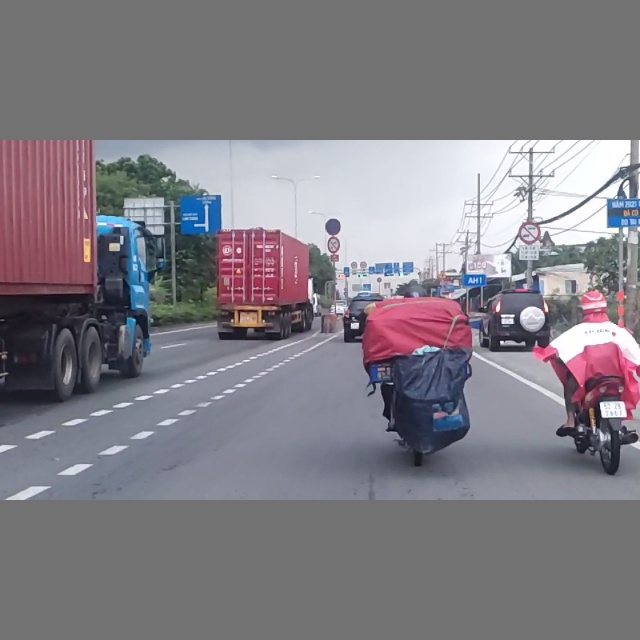P.107: (519, 222, 541, 245)
P.111: (327, 237, 341, 253)
P.130: (325, 218, 342, 235)
